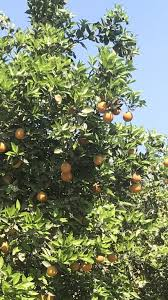orange: (122, 110, 134, 122), (98, 102, 107, 113)
